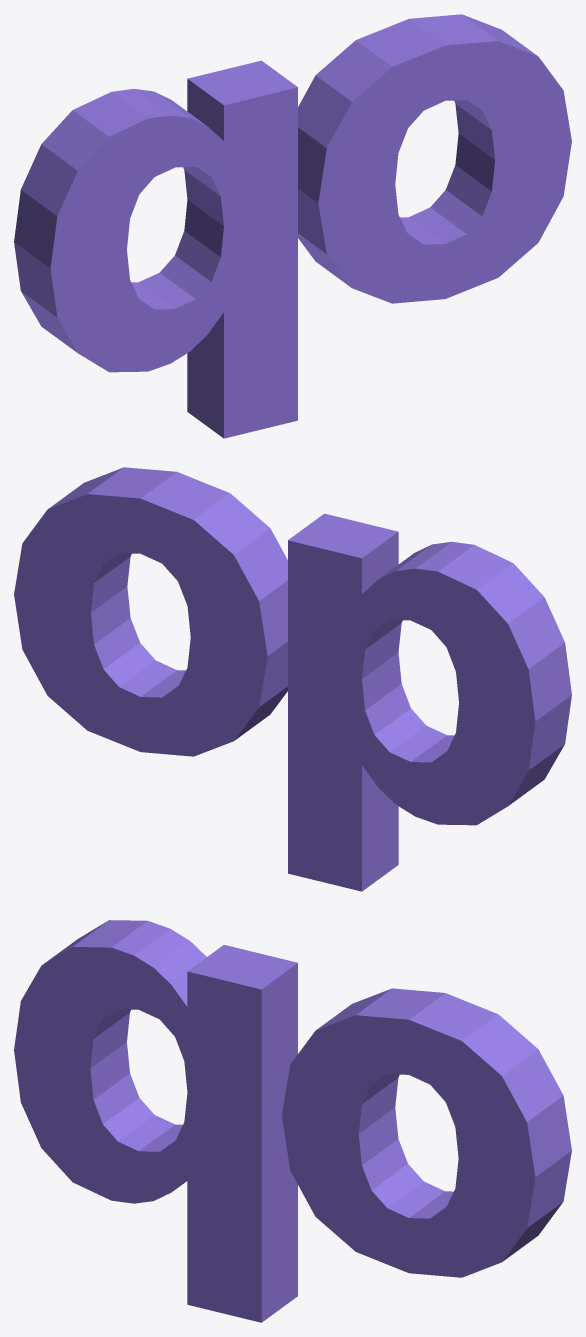
File: suku_kecil_qo.glb
3 views of the same model, one above another, from view 1: azimuth 30°, elevation 25°; view 2: azimuth 150°, elevation 25°; view 3: azimuth 330°, elevation 25° (orthographic).
Parts seen in each view (by area): view 1: geometry_0; view 2: geometry_0; view 3: geometry_0.
Part boxes in pixels (x1,y1,x2,y2): geometry_0: [14, 14, 571, 438]; geometry_0: [14, 467, 571, 891]; geometry_0: [14, 920, 571, 1322].
Bounding box in the file's own units: 12.36 × 7.68 × 1.5.
